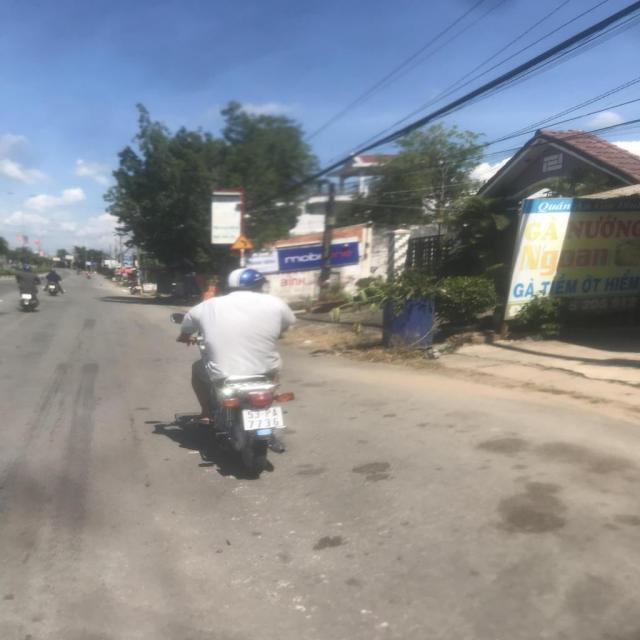201-cho-ngoat-nguy-hiem: (230, 234, 254, 250)
